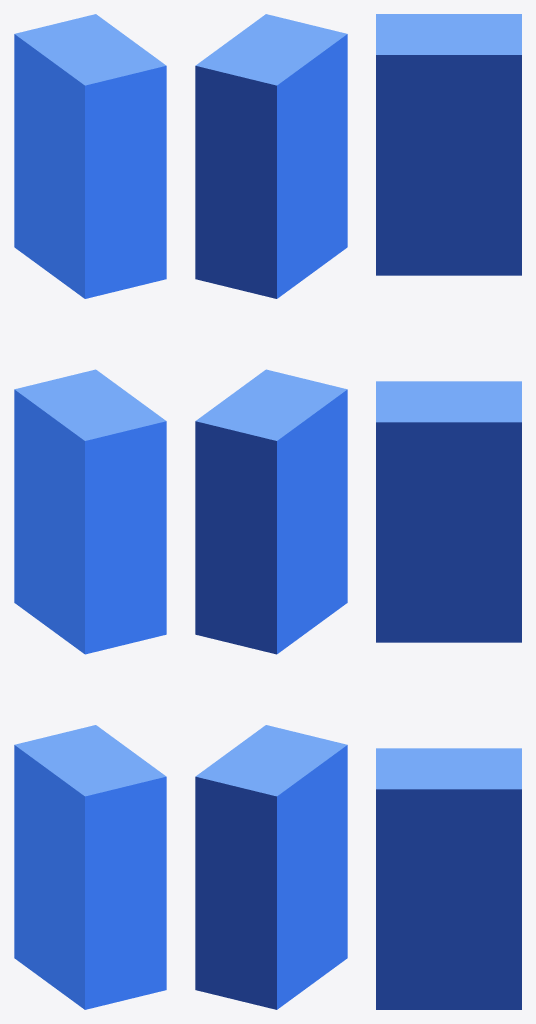
The model's file is Link_DashV.gltf.
3 renders of one model, left to right at view 1: azimuth 30°, elevation 25°; view 2: azimuth 150°, elevation 25°; view 3: azimuth 270°, elevation 25°, orthographic. The views are drawn at different scales.
Visible parts, largest first — view 1: Link_DashV_baked; view 2: Link_DashV_baked; view 3: Link_DashV_baked.
Part boxes in pixels (bbox=[...]): Link_DashV_baked: bbox=[14, 14, 166, 1009]; Link_DashV_baked: bbox=[195, 14, 347, 1009]; Link_DashV_baked: bbox=[376, 14, 521, 1009].
Bounding box in the file's own units: 0.08 × 0.866 × 0.12.
